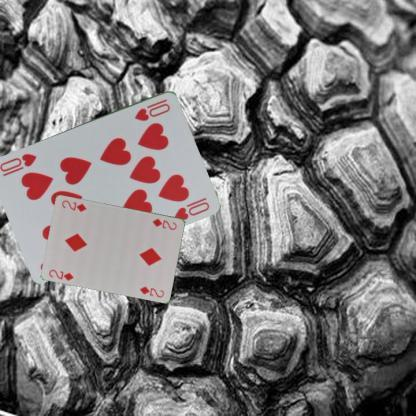10h: (132, 96, 172, 122)
2d: (150, 216, 178, 232), (46, 267, 75, 282)
